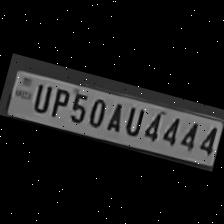0: (82, 92, 110, 128)
4: (194, 119, 221, 156), (140, 105, 166, 143), (157, 109, 183, 146), (176, 114, 202, 151)
5: (62, 86, 90, 124)
A: (102, 96, 128, 133)
P: (46, 83, 72, 119)
U: (26, 78, 54, 114), (120, 100, 146, 136)
